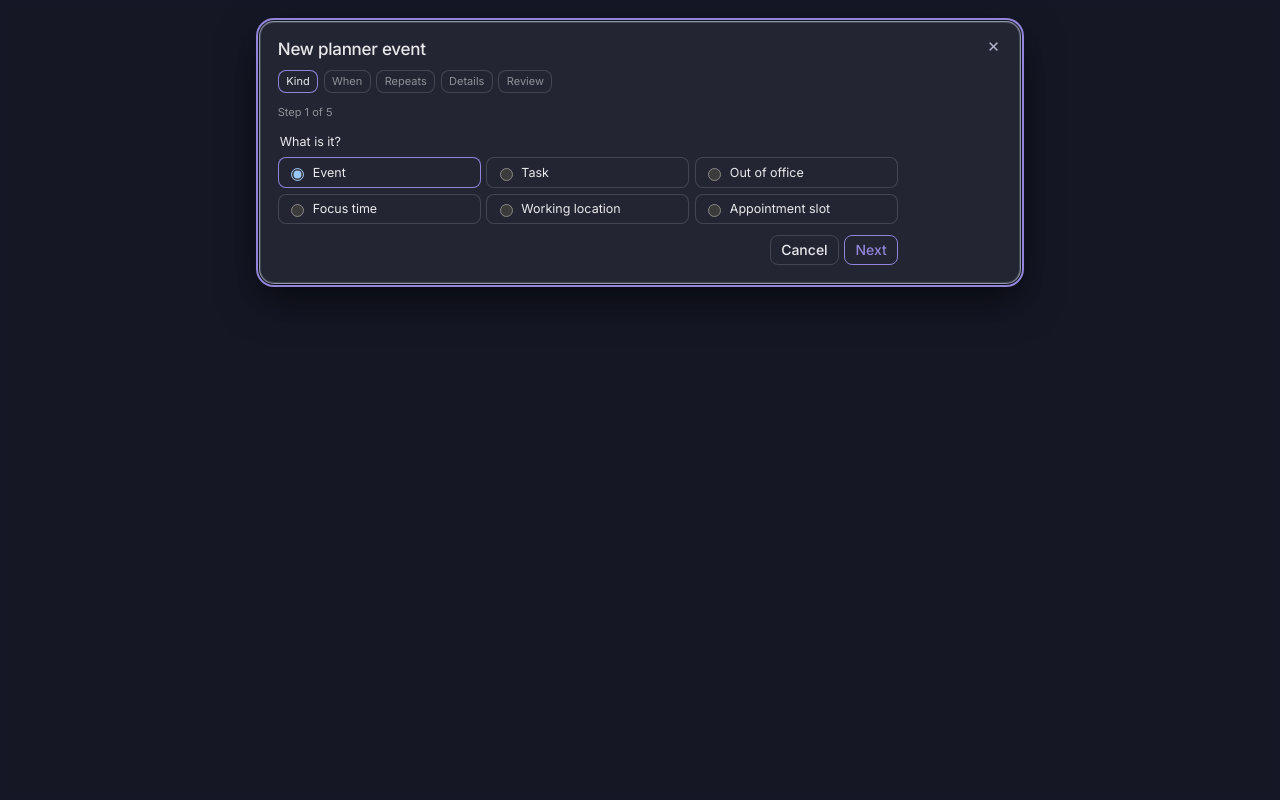
Test: R3-9 — step by step › keeps Next disabled on the second step until the title and times are valid
This screenshot has width=1280, height=800.
Click the button "Next" at (871, 250), box [844,235,898,265]
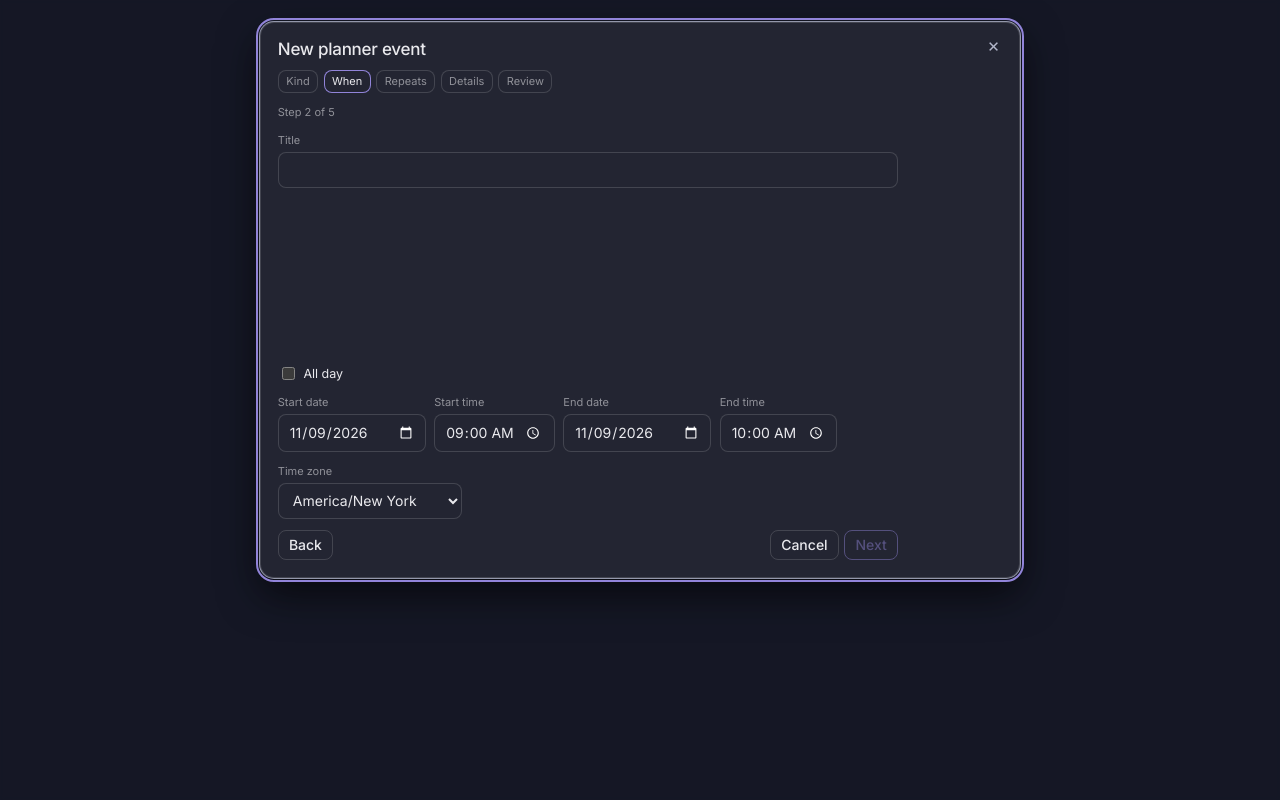
Expected: the button "Next" is disabled, [844,530,898,560]
Type "Study group" into the field labelled "Title" at (588, 170), box [278,152,898,188]
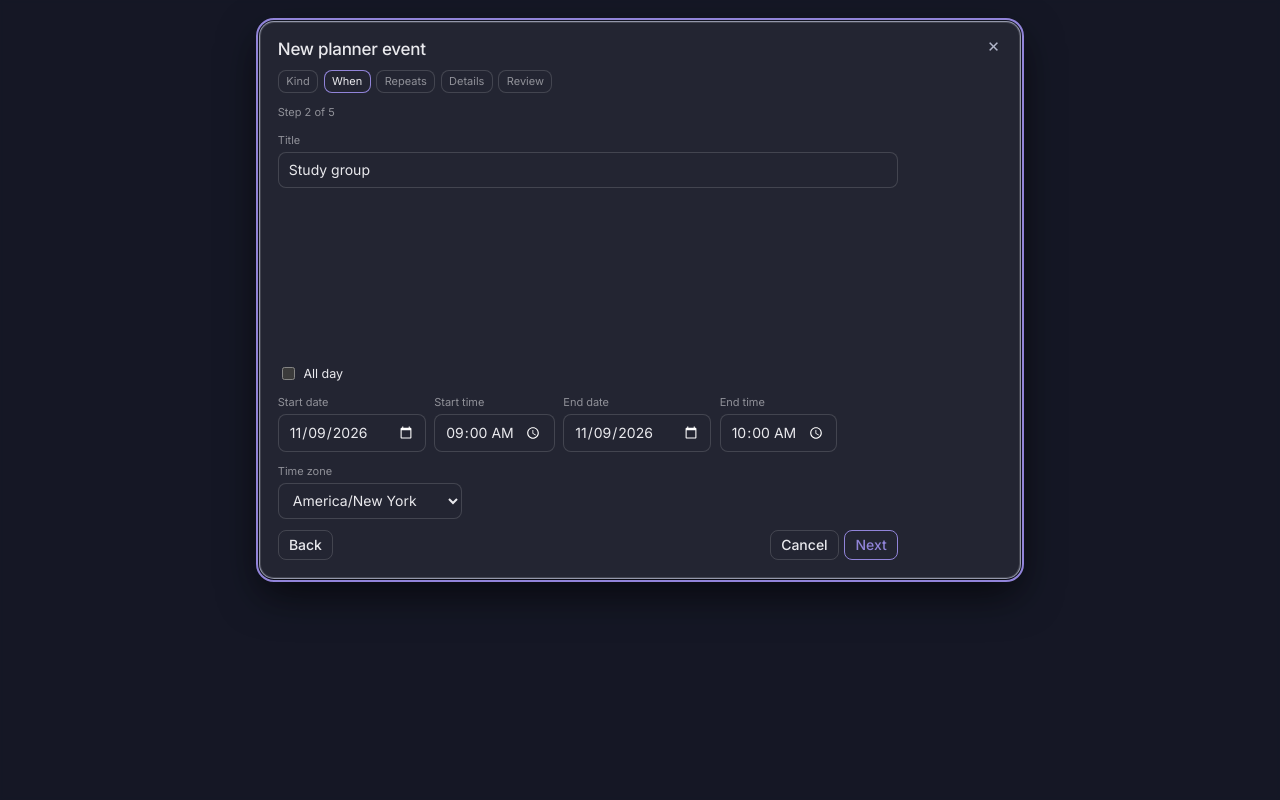
Expected: the button "Next" is enabled, [844,530,898,560]
Replace the text in the time field labelled "End time" with "08:00" at (779, 433), box [720,414,837,452]
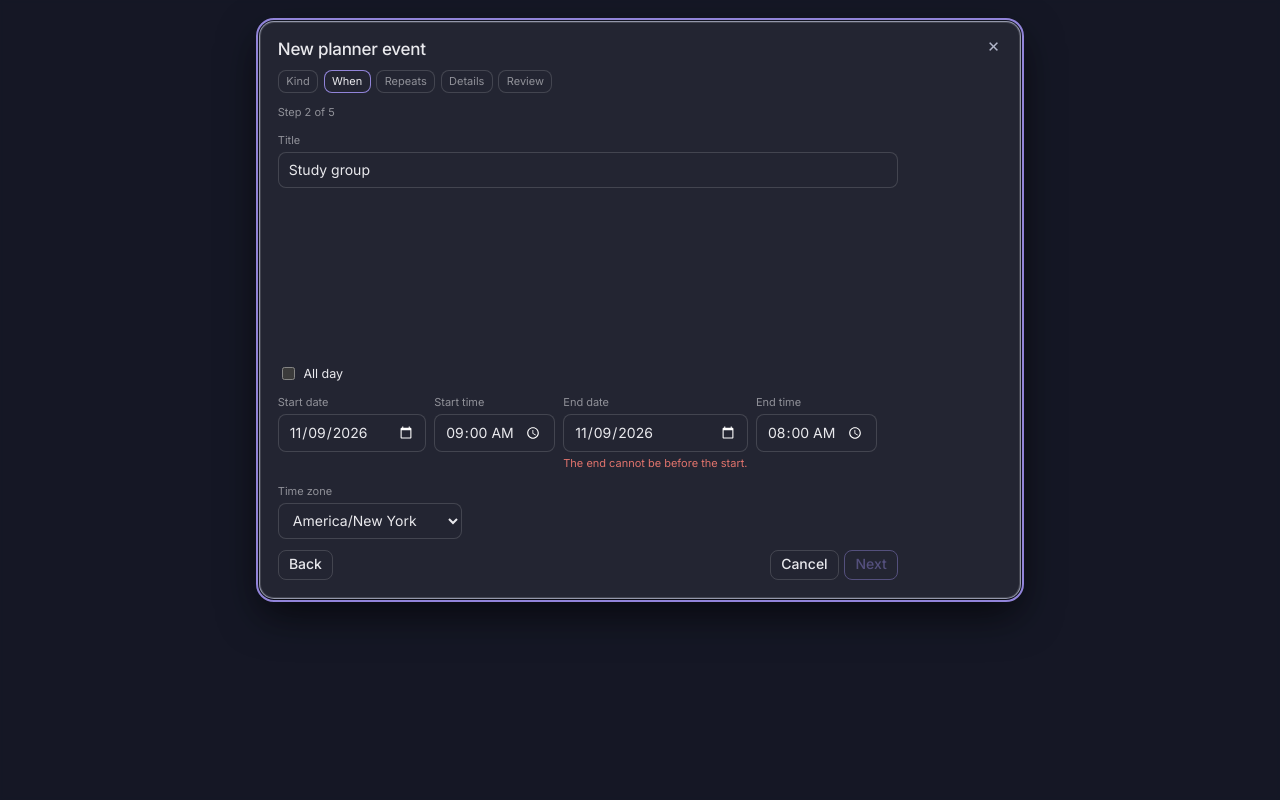
Expected: the button "Next" is disabled, [844,550,898,580]
Replace the text in the time field labelled "End time" with "10:00" at (816, 433), box [756,414,877,452]
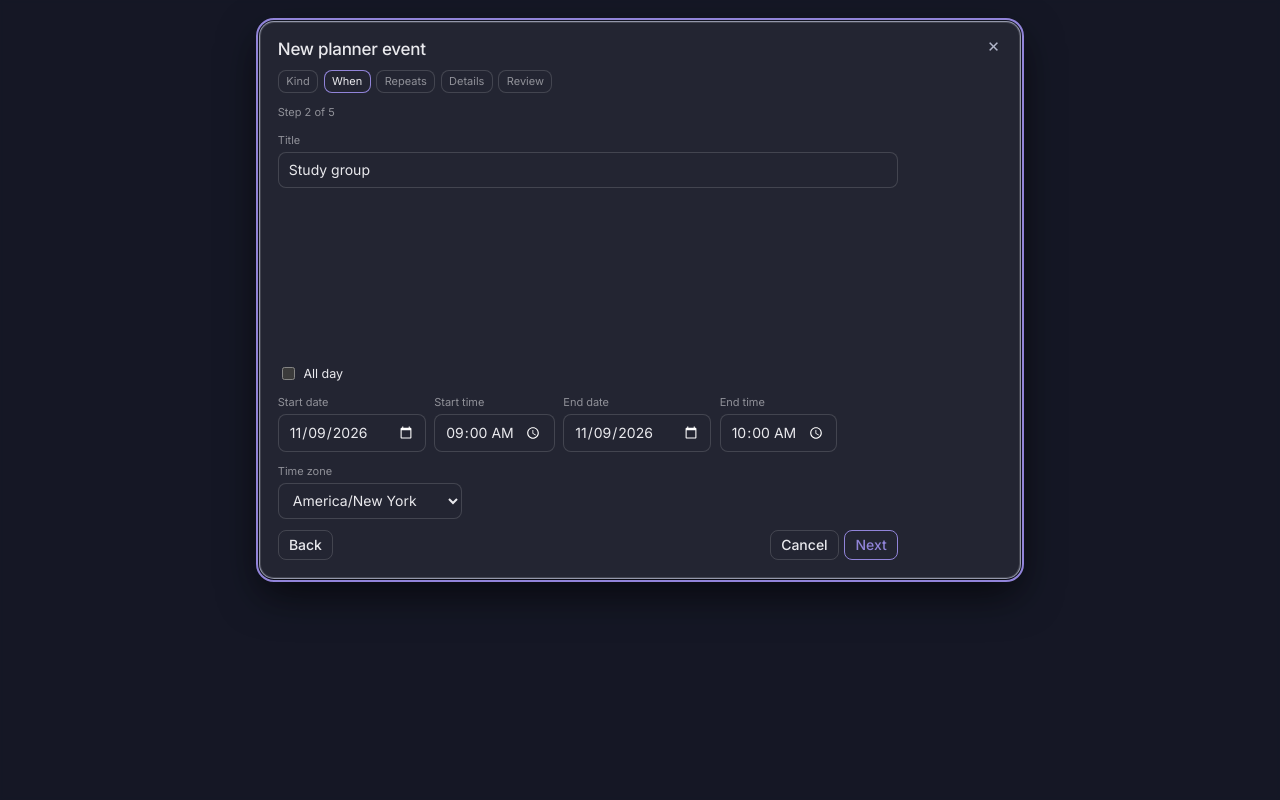
Expected: the button "Next" is enabled, [844,530,898,560]
